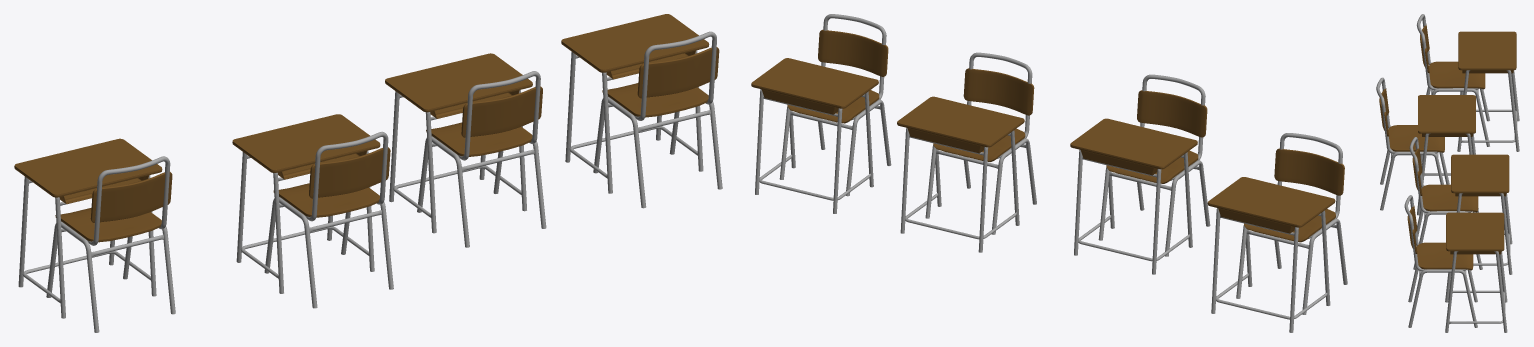
The model's file is HileraSillas_02.fbx.
3 views of the same model, side by side, from view 1: azimuth 30°, elevation 25°; view 2: azimuth 150°, elevation 25°; view 3: azimuth 270°, elevation 25° (orthographic). The views are drawn at different scales.
Parts seen in each view (by area): view 1: Silla_06, Silla_05, Silla_07, Silla_08, EscritorioEstudiante_01.005, EscritorioEstudiante_01.006, EscritorioEstudiante_01.008, EscritorioEstudiante_01.007; view 2: EscritorioEstudiante_01.005, EscritorioEstudiante_01.007, EscritorioEstudiante_01.008, EscritorioEstudiante_01.006, Silla_06, Silla_07, Silla_05, Silla_08; view 3: EscritorioEstudiante_01.008, EscritorioEstudiante_01.005, EscritorioEstudiante_01.007, EscritorioEstudiante_01.006, Silla_08, Silla_06, Silla_05, Silla_07.
Part boxes in pixels (x1,y1,x2,y2): Silla_06: (264,131,393,308); Silla_05: (46,156,175,332); Silla_07: (417,71,546,247); Silla_08: (593,31,722,208); EscritorioEstudiante_01.005: (14,138,162,318); EscritorioEstudiante_01.006: (232,114,380,293); EscritorioEstudiante_01.008: (561,14,709,193); EscritorioEstudiante_01.007: (385,53,532,233); EscritorioEstudiante_01.005: (1207,177,1335,332); EscritorioEstudiante_01.007: (897,96,1024,252); EscritorioEstudiante_01.008: (751,58,878,213); EscritorioEstudiante_01.006: (1070,118,1197,274); Silla_06: (1098,74,1210,256); Silla_07: (925,52,1036,234); Silla_05: (1236,133,1347,314); Silla_08: (779,14,891,196); EscritorioEstudiante_01.008: (1445,212,1507,332); EscritorioEstudiante_01.005: (1457,31,1519,151); EscritorioEstudiante_01.007: (1451,154,1512,274); EscritorioEstudiante_01.006: (1417,95,1478,215); Silla_08: (1404,195,1477,327); Silla_06: (1376,77,1449,210); Silla_05: (1416,14,1489,146); Silla_07: (1409,137,1482,269).
Bounding box in the file's own units: 1074 × 258 × 299.
